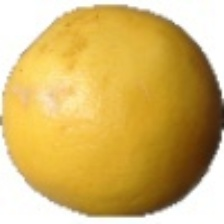grapes: (27, 13, 168, 201)
